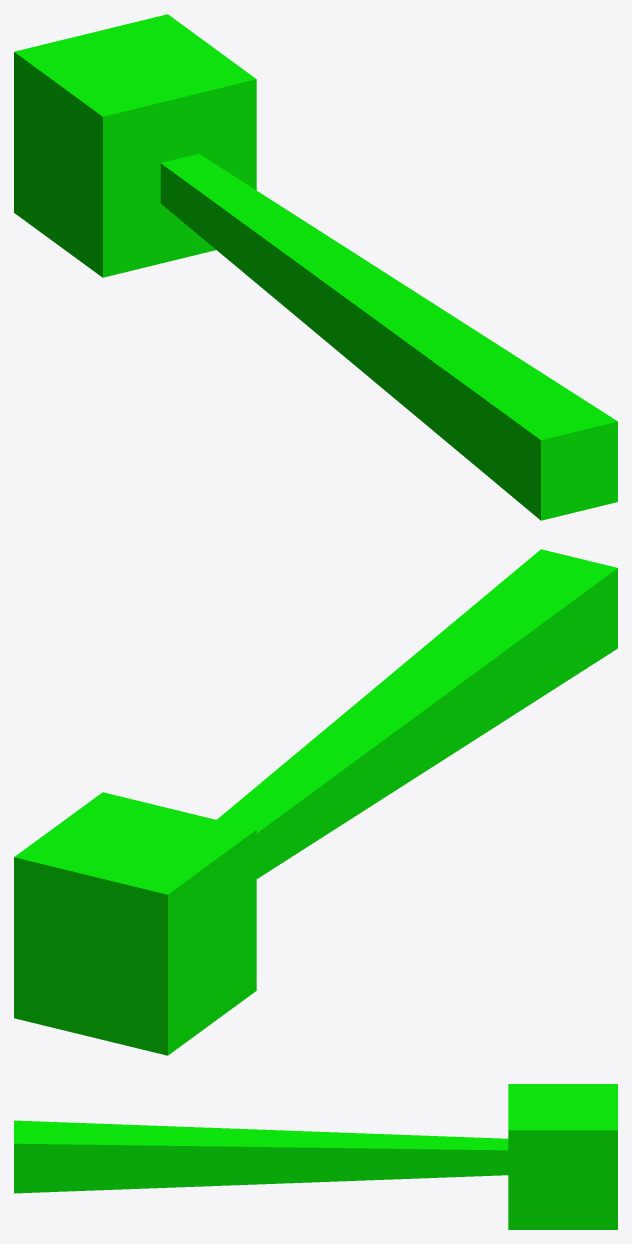
Rendered from graby.obj.
The picture shows the model from 3 angles, top to bottom: view 1: azimuth 30°, elevation 25°; view 2: azimuth 150°, elevation 25°; view 3: azimuth 270°, elevation 25°; orthographic projection. The views are drawn at different scales.
Parts seen in each view (by area): view 1: Cube; view 2: Cube; view 3: Cube.
Part boxes in pixels (x1,y1,x2,y2): Cube: [14, 14, 617, 520]; Cube: [14, 549, 617, 1055]; Cube: [14, 1084, 617, 1229].
Size of the model in its own units: 0.1 by 0.1 by 0.55.
